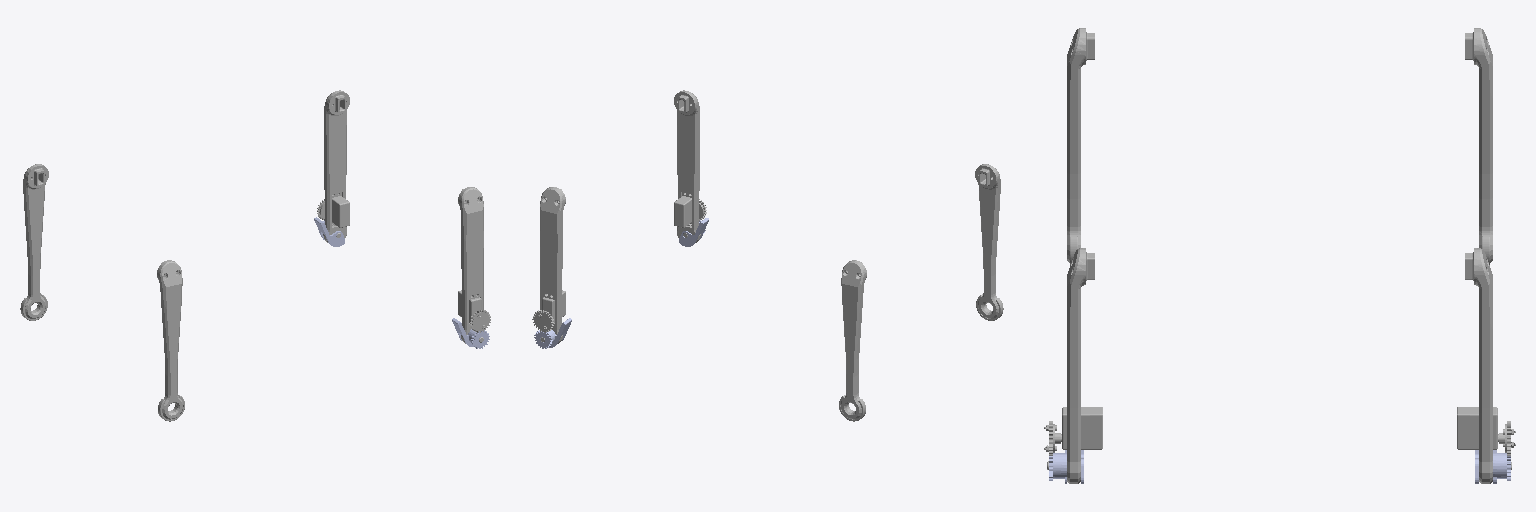
URDF robot description (solo8_URDF_v4):
<?xml version="1.0" encoding="utf-8"?>
<!-- This URDF was automatically created by SolidWorks to URDF Exporter! Originally created by [author] ([email redacted]) 
     Commit Version: 1.6.0-1-g15f4949  Build Version: 1.6.7594.29634
     For more information, please see http://wiki.ros.org/sw_urdf_exporter -->
<robot
  name="solo8_URDF_v4">
  <link
    name="base_link">
    <inertial>
      <origin
        xyz="-0.000131243804565513 -2.1877512663984E-07 -0.0434999979123721"
        rpy="0 0 0" />
      <mass
        value="1.08310148935514" />
      <inertia
        ixx="0.00078292100000959"
        ixy="-2.4726499499223E-09"
        ixz="-3.63300254721981E-10"
        iyy="0.00259878031126529"
        iyz="-1.55590918624866E-08"
        izz="0.00245312418407862" />
    </inertial>
    <visual>
      <origin
        xyz="0 0 0"
        rpy="0 0 0" />
      <geometry>
        <mesh
          filename="base_link.obj" />
      </geometry>
      <material
        name="">
        <color
          rgba="0.752941176470588 0.752941176470588 0.752941176470588 1" />
      </material>
    </visual>
    <collision>
      <origin
        xyz="0 0 0"
        rpy="0 0 0" />
      <geometry>
        <mesh
          filename="base_link.obj" />
      </geometry>
    </collision>
  </link>
  <link
    name="rear_left_upper_leg">
    <inertial>
      <origin
        xyz="0.0260463560497017 1.96058726216197E-05 0.0818383915482504"
        rpy="0 0 0" />
      <mass
        value="0.0878533269246308" />
      <inertia
        ixx="0.000160165468405235"
        ixy="5.98615459821546E-09"
        ixz="-1.01735410352558E-05"
        iyy="0.00015477566312305"
        iyz="7.25231006351549E-08"
        izz="1.45900829531821E-05" />
    </inertial>
    <visual>
      <origin
        xyz="0 0 0"
        rpy="0 0 0" />
      <geometry>
        <mesh
          filename="rear_left_upper_leg.obj" />
      </geometry>
      <material
        name="">
        <color
          rgba="0.752941176470588 0.752941176470588 0.752941176470588 1" />
      </material>
    </visual>
    <collision>
      <origin
        xyz="0 0 0"
        rpy="0 0 0" />
      <geometry>
        <mesh
          filename="rear_left_upper_leg.obj" />
      </geometry>
    </collision>
  </link>
  <joint
    name="HL_HFE"
    type="revolute">
    <origin
      xyz="0.19 -0.09805 -0.0435"
      rpy="3.1416 0 -1.5708" />
    <parent
      link="base_link" />
    <child
      link="rear_left_upper_leg" />
    <axis
      xyz="1 0 0" />
    <limit
      lower="-10"
      upper="10"
      effort="1000"
      velocity="1000" />
  </joint>
  <link
    name="rear_left_lower_leg">
    <inertial>
      <origin
        xyz="0.00798615918661305 -1.97240518362563E-09 0.0871955396993983"
        rpy="0 0 0" />
      <mass
        value="0.0568162066846248" />
      <inertia
        ixx="0.000116328623228087"
        ixy="-1.4413584564191E-12"
        ixz="-2.14214688984561E-06"
        iyy="0.000115301324090038"
        iyz="-6.13770553608215E-10"
        izz="3.92621698046174E-06" />
    </inertial>
    <visual>
      <origin
        xyz="0 0 0"
        rpy="0 0 0" />
      <geometry>
        <mesh
          filename="rear_left_lower_leg.obj" />
      </geometry>
      <material
        name="">
        <color
          rgba="0.752941176470588 0.752941176470588 0.752941176470588 1" />
      </material>
    </visual>
    <collision>
      <origin
        xyz="0 0 0"
        rpy="0 0 0" />
      <geometry>
        <mesh
          filename="rear_left_lower_leg.obj" />
      </geometry>
    </collision>
  </link>
  <joint
    name="HL_KFE"
    type="revolute">
    <origin
      xyz="0.04295 0 0.16"
      rpy="0 0 0" />
    <parent
      link="rear_left_upper_leg" />
    <child
      link="rear_left_lower_leg" />
    <axis
      xyz="1 0 0" />
    <limit
      lower="-10"
      upper="10"
      effort="1000"
      velocity="1000" />
  </joint>
  <link
    name="left_foot">
    <inertial>
      <origin
        xyz="0.00386607635157957 0.00146889156210511 -0.00743039693171482"
        rpy="0 0 0" />
      <mass
        value="0.00519421726516874" />
      <inertia
        ixx="5.76032025518373E-07"
        ixy="-1.81210163948847E-07"
        ixz="-1.51341930469166E-07"
        iyy="6.44238012165571E-07"
        iyz="-5.16314838570299E-08"
        izz="6.36337715625955E-07" />
    </inertial>
    <visual>
      <origin
        xyz="0 0 0"
        rpy="0 0 0" />
      <geometry>
        <mesh
          filename="left_foot.obj" />
      </geometry>
      <material
        name="">
        <color
          rgba="0.792156862745098 0.819607843137255 0.933333333333333 1" />
      </material>
    </visual>
    <collision>
      <origin
        xyz="0 0 0"
        rpy="0 0 0" />
      <geometry>
        <mesh
          filename="left_foot.obj" />
      </geometry>
    </collision>
  </link>
  <joint
    name="HL_ANKLE"
    type="revolute">
    <origin
      xyz="0.009 0 0.16"
      rpy="-1.5708 0 1.5708" />
    <parent
      link="rear_left_lower_leg" />
    <child
      link="left_foot" />
    <axis
      xyz="0 0 -1" />
    <limit
      lower="-10"
      upper="10"
      effort="1000"
      velocity="1000" />
  </joint>
  <link
    name="rear_right_upper_leg">
    <inertial>
      <origin
        xyz="0.0260463416796457 0.0818382398206385 -1.96475353925196E-05"
        rpy="0 0 0" />
      <mass
        value="0.0878534992285754" />
      <inertia
        ixx="0.000160166486207479"
        ixy="-1.0173668173731E-05"
        ixz="-6.02181345311133E-09"
        iyy="1.45901216597277E-05"
        iyz="-7.2801573302373E-08"
        izz="0.000154776708796327" />
    </inertial>
    <visual>
      <origin
        xyz="0 0 0"
        rpy="0 0 0" />
      <geometry>
        <mesh
          filename="rear_right_upper_leg.obj" />
      </geometry>
      <material
        name="">
        <color
          rgba="0.752941176470588 0.752941176470588 0.752941176470588 1" />
      </material>
    </visual>
    <collision>
      <origin
        xyz="0 0 0"
        rpy="0 0 0" />
      <geometry>
        <mesh
          filename="rear_right_upper_leg.obj" />
      </geometry>
    </collision>
  </link>
  <joint
    name="HR_HFE"
    type="revolute">
    <origin
      xyz="0.19 0.09805 -0.0435"
      rpy="-1.5708 0 1.5708" />
    <parent
      link="base_link" />
    <child
      link="rear_right_upper_leg" />
    <axis
      xyz="1 0 0" />
    <limit
      lower="-10"
      upper="10"
      effort="1000"
      velocity="1000" />
  </joint>
  <link
    name="rear_right_lower_leg">
    <inertial>
      <origin
        xyz="-0.00797510895141648 2.02971700558052E-09 0.0871955400372977"
        rpy="0 0 0" />
      <mass
        value="0.0568162062662583" />
      <inertia
        ixx="0.000116328622478411"
        ixy="-1.44920779054025E-12"
        ixz="2.14214690301966E-06"
        iyy="0.000115301448850468"
        iyz="7.24188217803086E-10"
        izz="3.92609149618552E-06" />
    </inertial>
    <visual>
      <origin
        xyz="0 0 0"
        rpy="0 0 0" />
      <geometry>
        <mesh
          filename="rear_right_lower_leg.obj" />
      </geometry>
      <material
        name="">
        <color
          rgba="0.752941176470588 0.752941176470588 0.752941176470588 1" />
      </material>
    </visual>
    <collision>
      <origin
        xyz="0 0 0"
        rpy="0 0 0" />
      <geometry>
        <mesh
          filename="rear_right_lower_leg.obj" />
      </geometry>
    </collision>
  </link>
  <joint
    name="HR_KFE"
    type="revolute">
    <origin
      xyz="0.04295 0.16 0"
      rpy="1.5708 0 -3.1416" />
    <parent
      link="rear_right_upper_leg" />
    <child
      link="rear_right_lower_leg" />
    <axis
      xyz="-1 0 0" />
    <limit
      lower="-10"
      upper="10"
      effort="1000"
      velocity="1000" />
  </joint>
  <link
    name="right_foot">
    <inertial>
      <origin
        xyz="0.00429876417655284 0.00138010818742385 0.00655818213531878"
        rpy="0 0 0" />
      <mass
        value="0.00552399106597403" />
      <inertia
        ixx="6.66262862375418E-07"
        ixy="-2.06352165604718E-07"
        ixz="1.58932083905544E-07"
        iyy="7.33640914324836E-07"
        iyz="4.23025973019174E-08"
        izz="7.06402190944134E-07" />
    </inertial>
    <visual>
      <origin
        xyz="0 0 0"
        rpy="0 0 0" />
      <geometry>
        <mesh
          filename="right_foot.obj" />
      </geometry>
      <material
        name="">
        <color
          rgba="0.792156862745098 0.819607843137255 0.933333333333333 1" />
      </material>
    </visual>
    <collision>
      <origin
        xyz="0 0 0"
        rpy="0 0 0" />
      <geometry>
        <mesh
          filename="right_foot.obj" />
      </geometry>
    </collision>
  </link>
  <joint
    name="HR_ANKLE"
    type="revolute">
    <origin
      xyz="-0.00925 0 0.16"
      rpy="-1.5708 0 1.5708" />
    <parent
      link="rear_right_lower_leg" />
    <child
      link="right_foot" />
    <axis
      xyz="0 0 1" />
    <limit
      lower="-10"
      upper="10"
      effort="1000"
      velocity="1000" />
  </joint>
  <link
    name="front_left_upper_leg">
    <inertial>
      <origin
        xyz="0.0260463213501499 1.96051061115143E-05 0.0818380959136073"
        rpy="0 0 0" />
      <mass
        value="0.0878537035476835" />
      <inertia
        ixx="0.000160165160326423"
        ixy="5.97988996236533E-09"
        ixz="-1.01734766862367E-05"
        iyy="0.000154775389279724"
        iyz="7.2491964765402E-08"
        izz="1.45901195907274E-05" />
    </inertial>
    <visual>
      <origin
        xyz="0 0 0"
        rpy="0 0 0" />
      <geometry>
        <mesh
          filename="front_left_upper_leg.obj" />
      </geometry>
      <material
        name="">
        <color
          rgba="0.752941176470588 0.752941176470588 0.752941176470588 1" />
      </material>
    </visual>
    <collision>
      <origin
        xyz="0 0 0"
        rpy="0 0 0" />
      <geometry>
        <mesh
          filename="front_left_upper_leg.obj" />
      </geometry>
    </collision>
  </link>
  <joint
    name="FL_HFE"
    type="revolute">
    <origin
      xyz="-0.19 -0.09805 -0.0435"
      rpy="3.1416 0 -1.5708" />
    <parent
      link="base_link" />
    <child
      link="front_left_upper_leg" />
    <axis
      xyz="1 0 0" />
    <limit
      lower="-10"
      upper="10"
      effort="1000"
      velocity="1000" />
  </joint>
  <link
    name="front_left_lower_leg">
    <inertial>
      <origin
        xyz="0.000812954907024432 -0.0709663568959096 3.16708653191888E-08"
        rpy="0 0 0" />
      <mass
        value="0.0352176463863073" />
      <inertia
        ixx="0.000102544957886135"
        ixy="-1.95338237262207E-06"
        ixz="-1.83862183857662E-12"
        iyy="1.73308119670232E-06"
        iyz="-6.55038614981896E-11"
        izz="0.000101666357617047" />
    </inertial>
    <visual>
      <origin
        xyz="0 0 0"
        rpy="0 0 0" />
      <geometry>
        <mesh
          filename="front_left_lower_leg.obj" />
      </geometry>
      <material
        name="">
        <color
          rgba="0.752941176470588 0.752941176470588 0.752941176470588 1" />
      </material>
    </visual>
    <collision>
      <origin
        xyz="0 0 0"
        rpy="0 0 0" />
      <geometry>
        <mesh
          filename="front_left_lower_leg.obj" />
      </geometry>
    </collision>
  </link>
  <joint
    name="FL_KFE"
    type="revolute">
    <origin
      xyz="0.0519500000000016 0 0.16"
      rpy="-1.5707963267949 0 -3.14159265358979" />
    <parent
      link="front_left_upper_leg" />
    <child
      link="front_left_lower_leg" />
    <axis
      xyz="-1 0 0" />
    <limit
      lower="-10"
      upper="10"
      effort="1000"
      velocity="1000" />
  </joint>
  <link
    name="front_right_upper_leg">
    <inertial>
      <origin
        xyz="0.0260462217616799 0.0818371669464919 -1.96409034333711E-05"
        rpy="0 0 0" />
      <mass
        value="0.087854821599005" />
      <inertia
        ixx="0.000160172872993533"
        ixy="-1.01744862780989E-05"
        ixz="-6.02462268517269E-09"
        iyy="1.45900414152232E-05"
        iyz="-7.28060149796806E-08"
        izz="0.000154783006946061" />
    </inertial>
    <visual>
      <origin
        xyz="0 0 0"
        rpy="0 0 0" />
      <geometry>
        <mesh
          filename="front_right_upper_leg.obj" />
      </geometry>
      <material
        name="">
        <color
          rgba="0.752941176470588 0.752941176470588 0.752941176470588 1" />
      </material>
    </visual>
    <collision>
      <origin
        xyz="0 0 0"
        rpy="0 0 0" />
      <geometry>
        <mesh
          filename="front_right_upper_leg.obj" />
      </geometry>
    </collision>
  </link>
  <joint
    name="FR_HFE"
    type="revolute">
    <origin
      xyz="-0.190000000000001 0.0980500000000003 -0.0434999999999995"
      rpy="-1.5707963267949 0 1.5707963267949" />
    <parent
      link="base_link" />
    <child
      link="front_right_upper_leg" />
    <axis
      xyz="1 0 0" />
    <limit
      lower="-10"
      upper="10"
      effort="1000"
      velocity="1000" />
  </joint>
  <link
    name="front_right_lower_leg">
    <inertial>
      <origin
        xyz="0.00081295491320274 -0.0709663564341324 3.1561713798034E-08"
        rpy="0 0 0" />
      <mass
        value="0.0352176467961685" />
      <inertia
        ixx="0.000102544958492936"
        ixy="-1.95338234788562E-06"
        ixz="-1.84048280454168E-12"
        iyy="1.73308122040895E-06"
        iyz="-6.53557905951406E-11"
        izz="0.000101666358172514" />
    </inertial>
    <visual>
      <origin
        xyz="0 0 0"
        rpy="0 0 0" />
      <geometry>
        <mesh
          filename="front_right_lower_leg.obj" />
      </geometry>
      <material
        name="">
        <color
          rgba="0.752941176470588 0.752941176470588 0.752941176470588 1" />
      </material>
    </visual>
    <collision>
      <origin
        xyz="0 0 0"
        rpy="0 0 0" />
      <geometry>
        <mesh
          filename="front_right_lower_leg.obj" />
      </geometry>
    </collision>
  </link>
  <joint
    name="FR_KFE"
    type="revolute">
    <origin
      xyz="0.051950000000001 0.16 0"
      rpy="0 0 -3.14159265358979" />
    <parent
      link="front_right_upper_leg" />
    <child
      link="front_right_lower_leg" />
    <axis
      xyz="-1 0 0" />
    <limit
      lower="-10"
      upper="10"
      effort="1000"
      velocity="1000" />
  </joint>
</robot>

--- Render facts (derived) ---
3 views of the same robot in one strip: view 1: azimuth 30°, elevation 25°; view 2: azimuth 150°, elevation 25°; view 3: azimuth 270°, elevation 25° (orthographic).
Model solo8_URDF_v4 with 11 links and 10 joints (10 revolute), rooted at base_link, posed all joints at 0.
Visible links, largest first — view 1: rear_left_lower_leg, rear_right_lower_leg, front_left_lower_leg, front_right_lower_leg; view 2: rear_right_lower_leg, rear_left_lower_leg, front_right_lower_leg, front_left_lower_leg; view 3: rear_left_lower_leg, rear_right_lower_leg, front_left_lower_leg, front_right_lower_leg, right_foot, left_foot.
Link boxes in pixels (bbox=[...]): rear_left_lower_leg: bbox=[458, 187, 490, 343]; rear_right_lower_leg: bbox=[317, 90, 349, 242]; front_left_lower_leg: bbox=[157, 260, 184, 421]; front_right_lower_leg: bbox=[20, 164, 48, 320]; rear_right_lower_leg: bbox=[532, 187, 565, 343]; rear_left_lower_leg: bbox=[674, 90, 706, 242]; front_right_lower_leg: bbox=[839, 260, 866, 421]; front_left_lower_leg: bbox=[975, 164, 1003, 320]; rear_left_lower_leg: bbox=[1044, 248, 1102, 483]; rear_right_lower_leg: bbox=[1457, 248, 1515, 483]; front_left_lower_leg: bbox=[1067, 28, 1094, 264]; front_right_lower_leg: bbox=[1465, 28, 1492, 264]; right_foot: bbox=[1475, 450, 1510, 483]; left_foot: bbox=[1049, 450, 1083, 483].
Size in the robot's own frame: 0.4094 by 0.3432 by 0.1894 metres.
6 mesh visuals loaded from 11 distinct referenced files (6 OBJ); not drawn: 5 (reference not matched to a file when rendering).